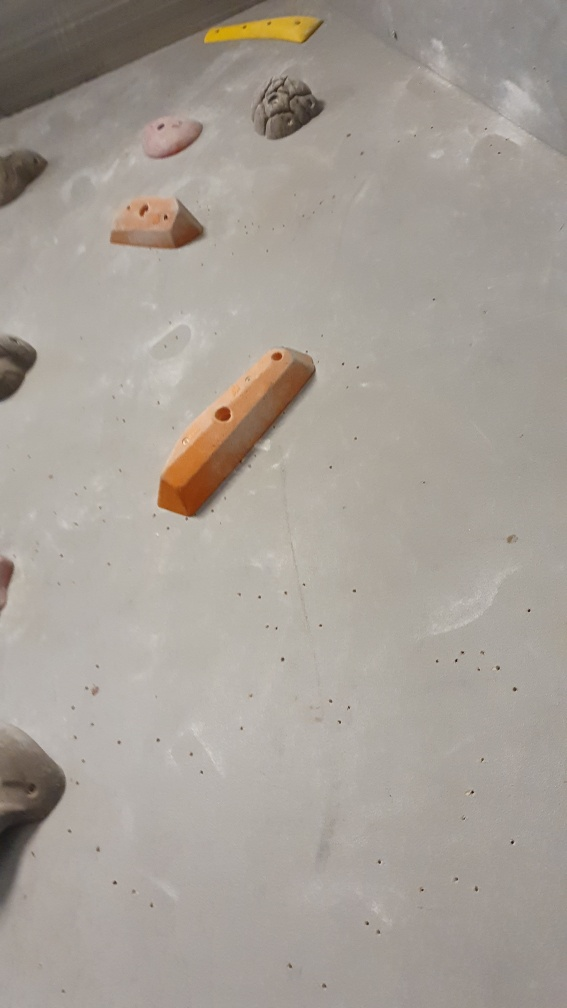Crimp: (199, 12, 325, 48)
Jug: (252, 73, 326, 140)
Pinch: (154, 343, 317, 517), (105, 192, 206, 255)
